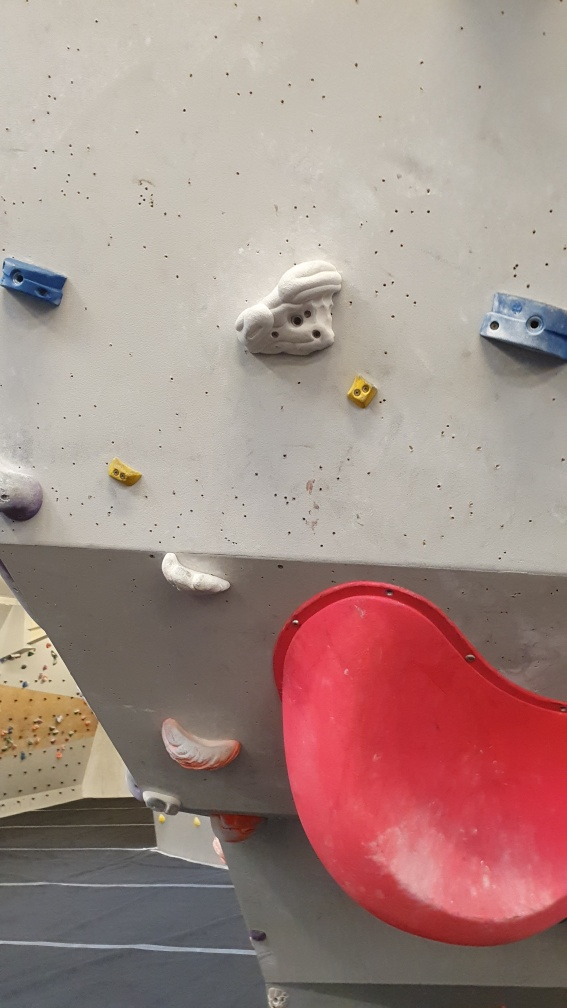Crimp: (104, 453, 149, 494)
Jug: (229, 256, 344, 357), (155, 711, 249, 771), (159, 548, 230, 602)
Pinch: (478, 288, 567, 371), (1, 257, 76, 309), (341, 370, 379, 412)
